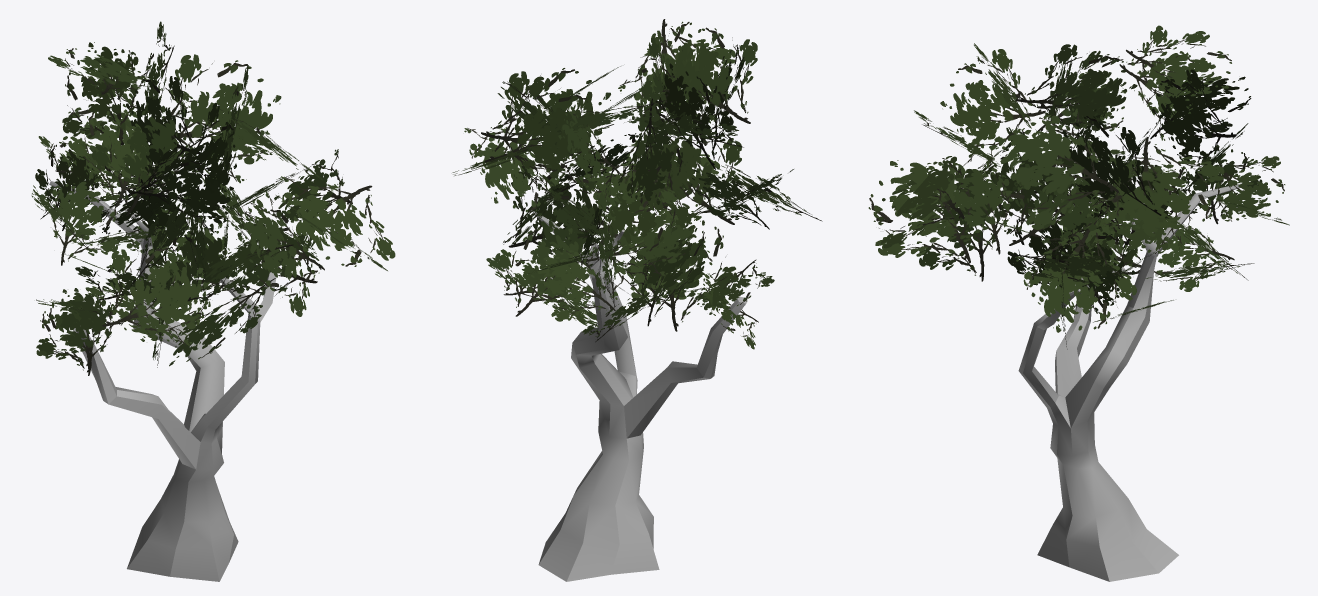
Rendered from treeA_01.fbx.
3 views of the same model, side by side, from view 1: azimuth 30°, elevation 25°; view 2: azimuth 150°, elevation 25°; view 3: azimuth 270°, elevation 25° (orthographic). The views are drawn at different scales.
Parts seen in each view (by area): view 1: treeA_testing_tree5; view 2: treeA_testing_tree5; view 3: treeA_testing_tree5.
Part boxes in pixels (left/top/right/bottom): treeA_testing_tree5: left=31, top=21, right=395, bottom=581; treeA_testing_tree5: left=452, top=19, right=822, bottom=581; treeA_testing_tree5: left=868, top=25, right=1289, bottom=581.
Size of the model in its own units: 22.3 by 34.45 by 26.79.
Materials: 2 (1 with a texture image).
